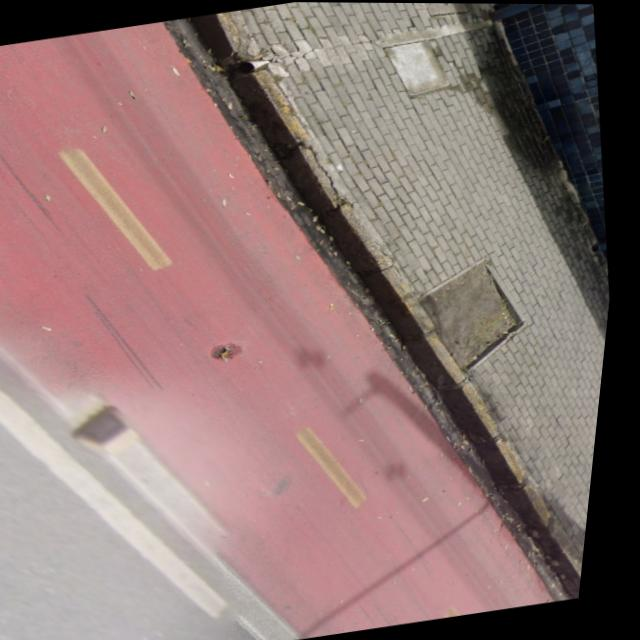Buraco: (204, 330, 261, 370)
